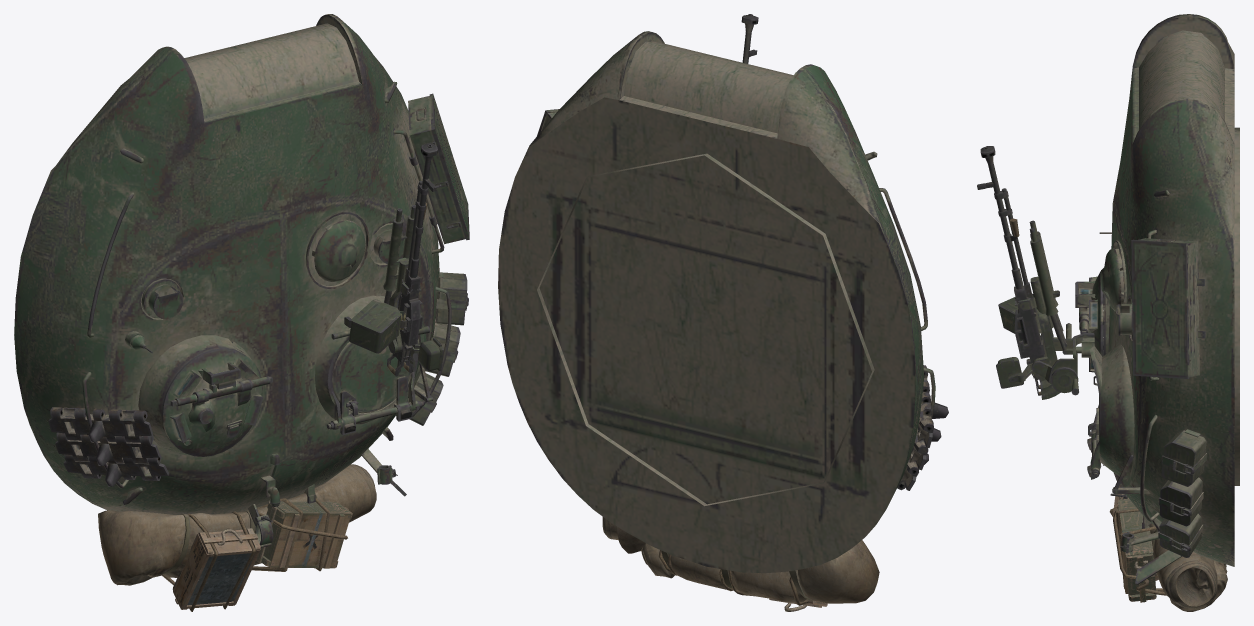
Rendered from Turret_01.glb.
3 renders of one model, left to right at view 1: azimuth 30°, elevation 25°; view 2: azimuth 150°, elevation 25°; view 3: azimuth 270°, elevation 25°, orthographic.
Parts seen in each view (by area): view 1: set_0_group_0; view 2: set_0_group_0; view 3: set_0_group_0.
Part boxes in pixels (bbox=[...]): set_0_group_0: bbox=[14, 14, 469, 611]; set_0_group_0: bbox=[498, 14, 948, 611]; set_0_group_0: bbox=[977, 14, 1239, 611].
Size of the model in its own units: 2.89 by 3.55 by 1.55.
Materials: 1 (1 with a texture image).
